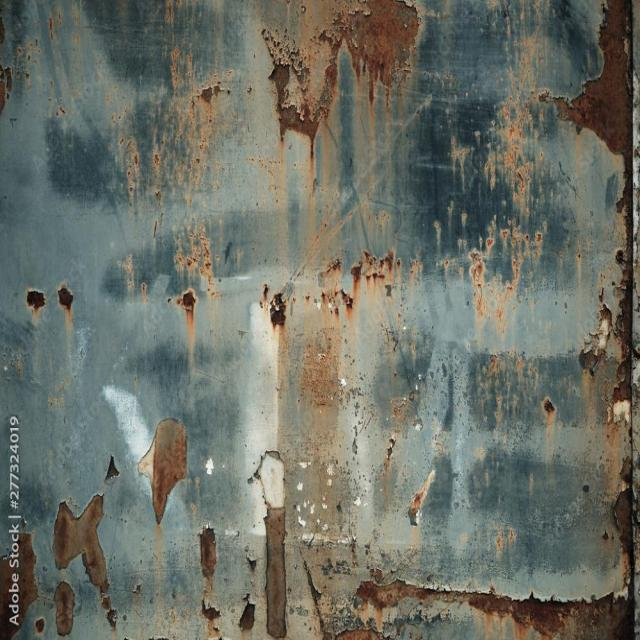Pitting Corrosion: (247, 0, 432, 639), (467, 0, 639, 639), (152, 47, 232, 240), (52, 489, 118, 629), (136, 417, 188, 570), (0, 532, 40, 639), (166, 279, 198, 387), (174, 222, 220, 296), (199, 523, 225, 639), (316, 375, 354, 421), (118, 137, 140, 216), (407, 466, 435, 527), (237, 579, 259, 636), (54, 582, 76, 637), (57, 282, 74, 334), (540, 395, 557, 436), (26, 288, 47, 320), (104, 454, 120, 485), (246, 546, 258, 576), (34, 618, 45, 634)
Uniform Corrosion: (297, 0, 639, 639), (247, 0, 421, 639), (52, 491, 118, 630), (172, 53, 230, 206), (137, 417, 188, 570), (490, 215, 542, 332), (383, 382, 422, 518), (0, 519, 39, 639), (165, 280, 198, 404), (174, 222, 221, 297), (199, 524, 228, 639), (152, 126, 170, 249), (406, 462, 436, 532), (118, 138, 140, 215), (57, 282, 74, 334), (25, 287, 48, 323), (540, 395, 557, 436)
